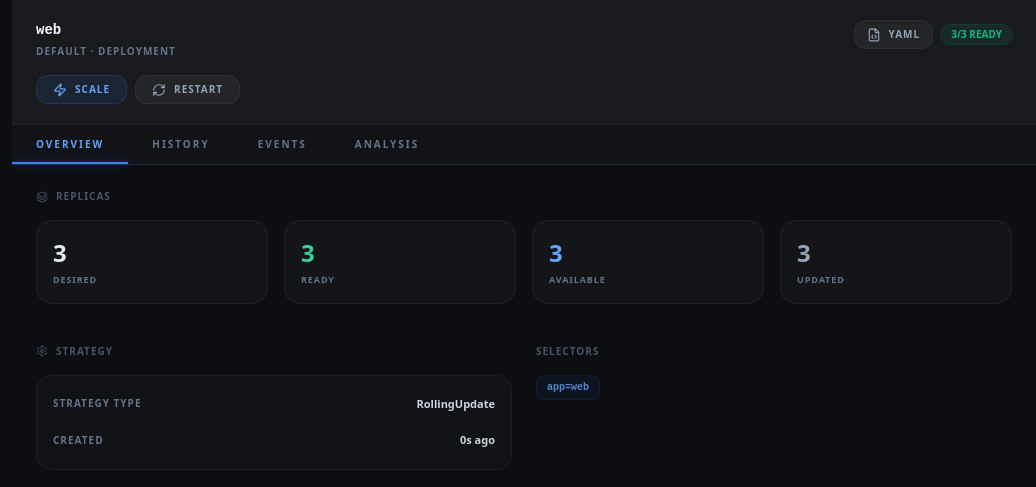
DeploymentDetail — history tab › shows error message when history fetch fails
Click the button "history": click(181, 144) [128,125,234,164]
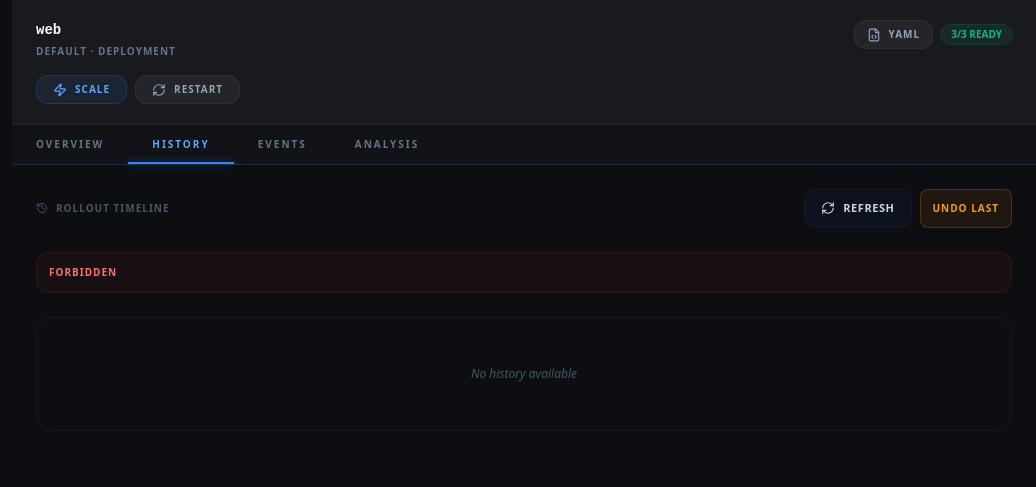
Now the text "forbidden" is shown, box [36,252,1012,292]
